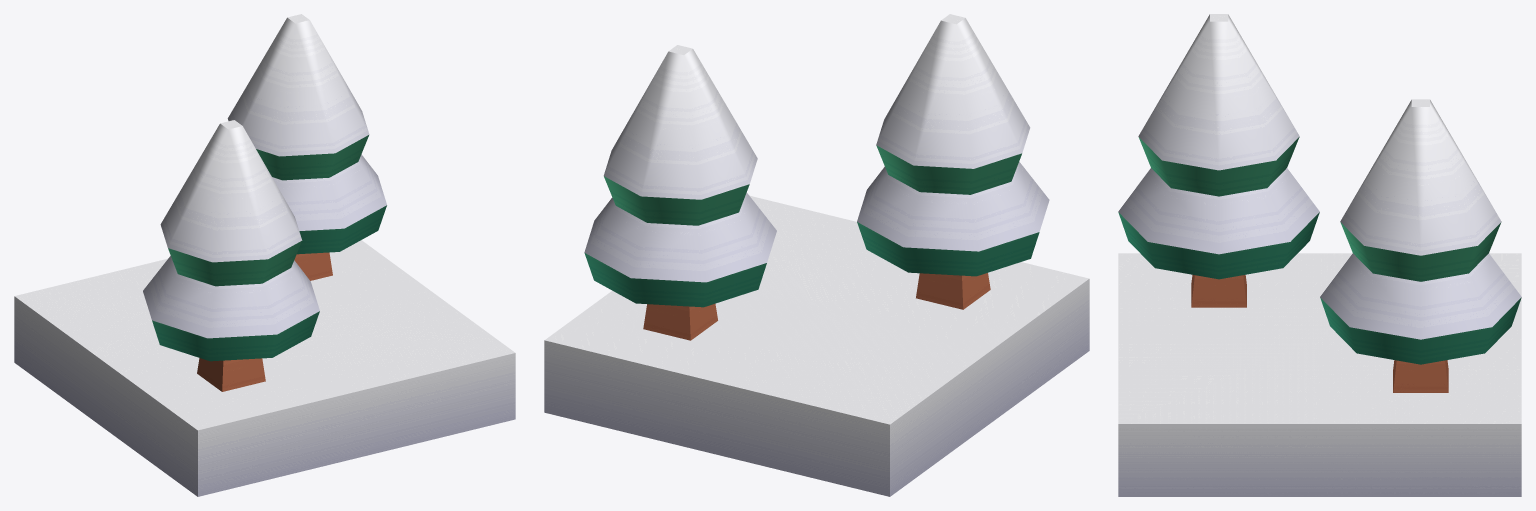
File: snow-tile-tree-double.glb
The picture shows the model from 3 angles, left to right: view 1: azimuth 30°, elevation 25°; view 2: azimuth 150°, elevation 25°; view 3: azimuth 270°, elevation 25°; orthographic projection. The views are drawn at different scales.
Parts seen in each view (by area): view 1: snow-tile-tree-double; view 2: snow-tile-tree-double; view 3: snow-tile-tree-double.
Boxes of the visible parts, x1,y1,x2,y2 form: snow-tile-tree-double: (14, 14, 515, 496); snow-tile-tree-double: (544, 14, 1089, 496); snow-tile-tree-double: (1118, 14, 1521, 496).
Bounding box in the file's own units: 3 × 2.88 × 3.
Materials: 1 (1 with a texture image).
